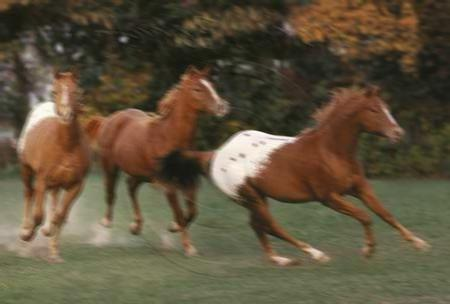horse: (152, 82, 432, 268), (93, 63, 230, 256), (16, 65, 92, 263)
